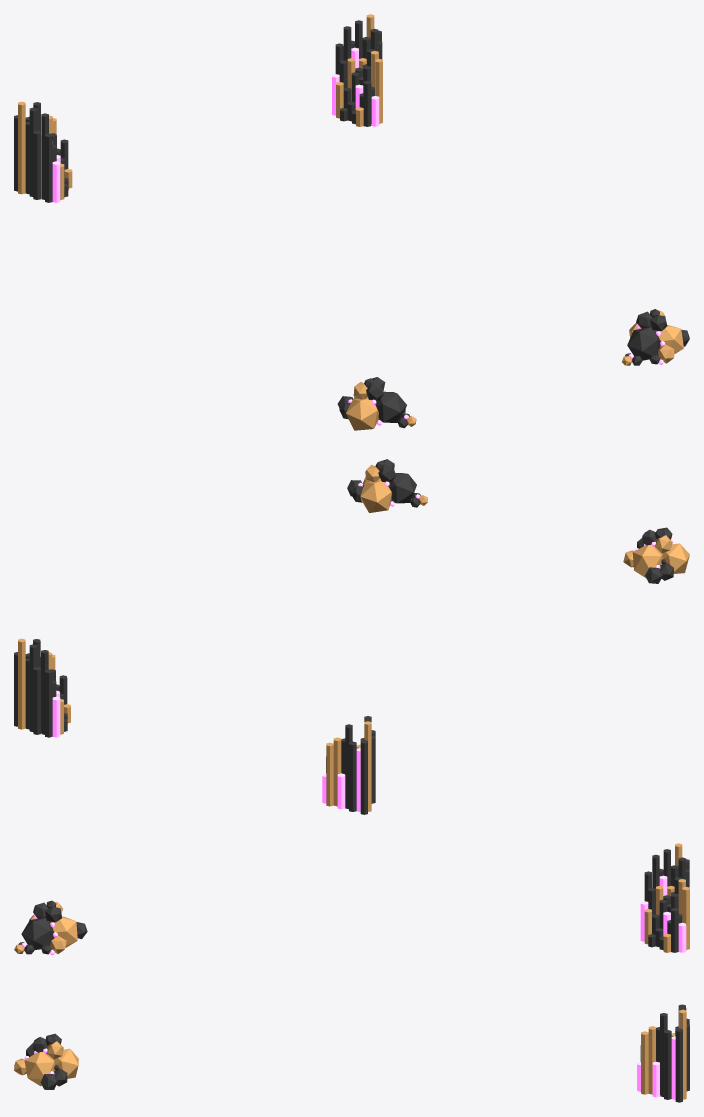
File: Decoration.glb
3 views of the same model, one above another, from view 1: azimuth 30°, elevation 25°; view 2: azimuth 150°, elevation 25°; view 3: azimuth 270°, elevation 25° (orthographic). The views are drawn at different scales.
Visible parts, largest first — view 1: Circle.008, Circle.009, Decoration, Decoration.001; view 2: Circle.008, Circle.009, Decoration.001, Decoration; view 3: Circle.009, Circle.008, Decoration, Decoration.001.
Boxes of the visible parts, left/top/right/bottom form: Circle.008: left=332, top=14, right=382, bottom=126; Circle.009: left=14, top=101, right=72, bottom=202; Decoration: left=337, top=377, right=416, bottom=430; Decoration.001: left=622, top=309, right=689, bottom=365; Circle.008: left=14, top=638, right=70, bottom=737; Circle.009: left=322, top=716, right=375, bottom=814; Decoration.001: left=347, top=459, right=427, bottom=512; Decoration: left=623, top=527, right=689, bottom=583; Circle.009: left=640, top=843, right=689, bottom=952; Circle.008: left=637, top=1004, right=689, bottom=1102; Decoration: left=14, top=900, right=87, bottom=955; Decoration.001: left=14, top=1033, right=78, bottom=1089.
Bounding box in the file's own units: 8.82 × 2.12 × 14.56.
